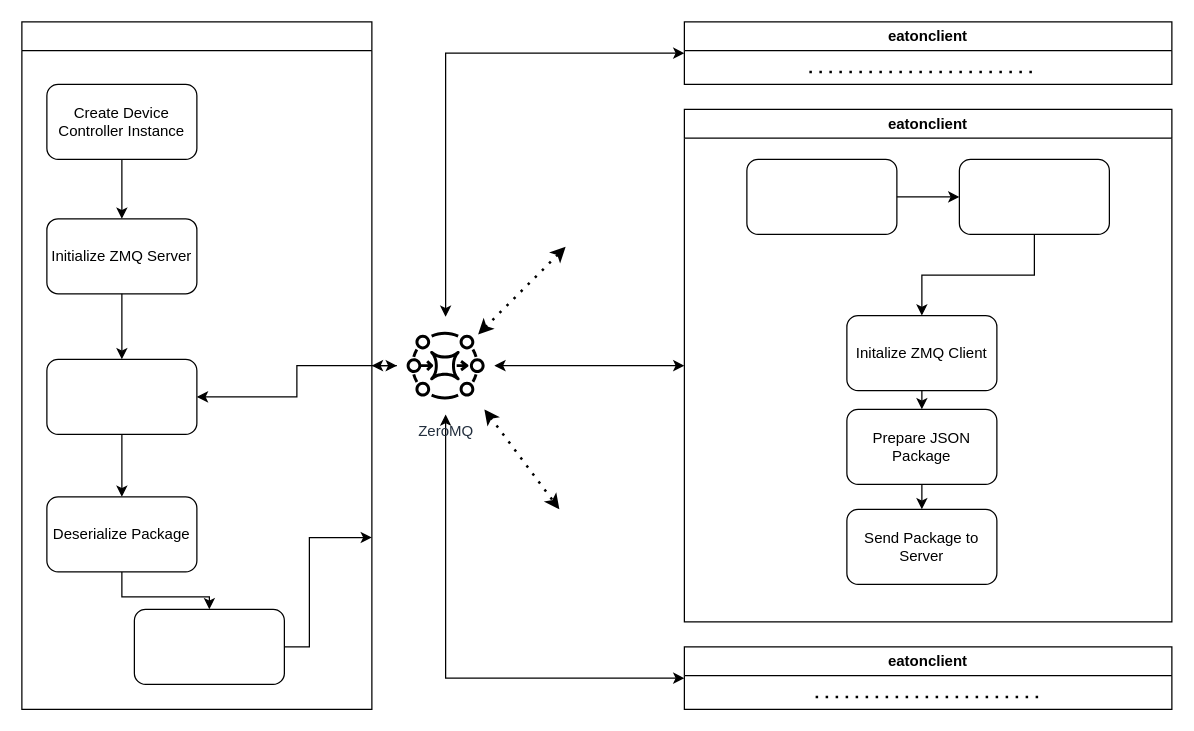
Image size: 1194x731. Some labels were removed from this diagram. Each missing label, with the box of its shape:
Convert Data to JSON: (958, 158, 1109, 234)
eatonserver: (21, 21, 372, 709)
Generate Random Measurement Values: (746, 158, 897, 234)
Receive Client Packets in MQ: (46, 358, 197, 434)
Send Success: (133, 608, 284, 684)
